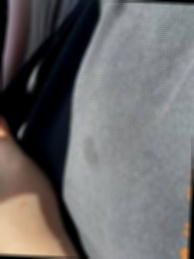oil: (85, 135, 104, 165)
